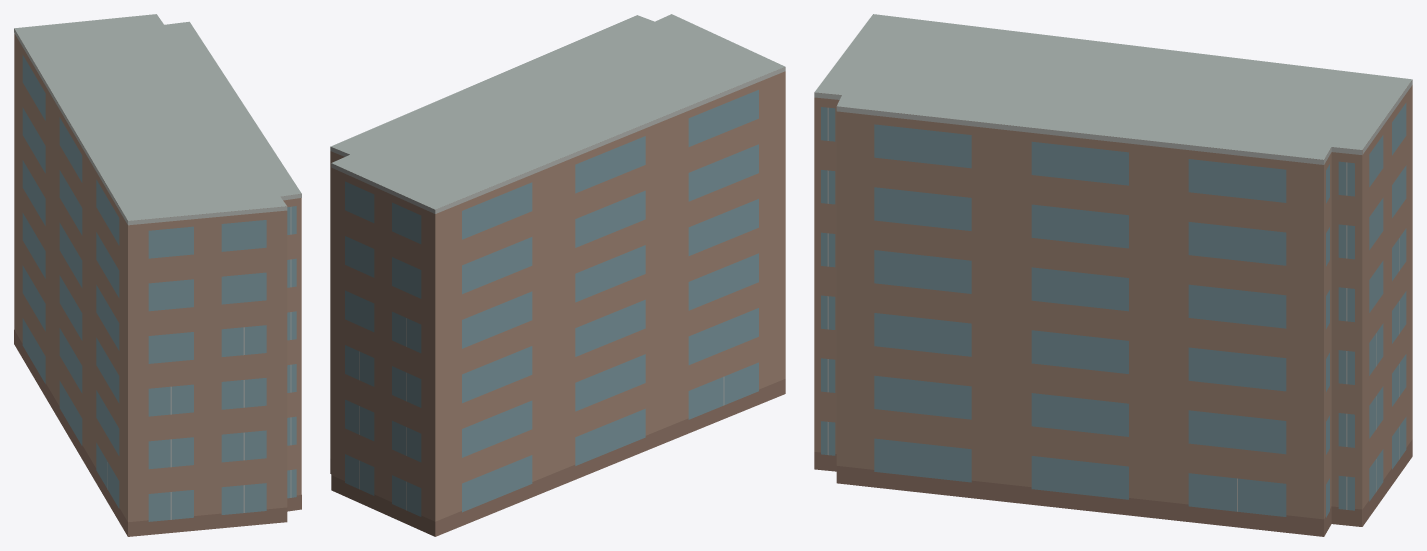
File: survey-upis-32872538.glb
3 renders of one model, left to right at view 1: azimuth 30°, elevation 25°; view 2: azimuth 150°, elevation 25°; view 3: azimuth 270°, elevation 25°, orthographic. The views are drawn at different scales.
Visible parts, largest first — view 1: survey-upis-32872538.tmp; view 2: survey-upis-32872538.tmp; view 3: survey-upis-32872538.tmp.
Boxes of the visible parts, left/top/right/bottom form: survey-upis-32872538.tmp: left=14, top=14, right=301, bottom=536; survey-upis-32872538.tmp: left=330, top=14, right=785, bottom=536; survey-upis-32872538.tmp: left=814, top=14, right=1412, bottom=536.
Bounding box in the file's own units: 14.95 × 18 × 25.9.
